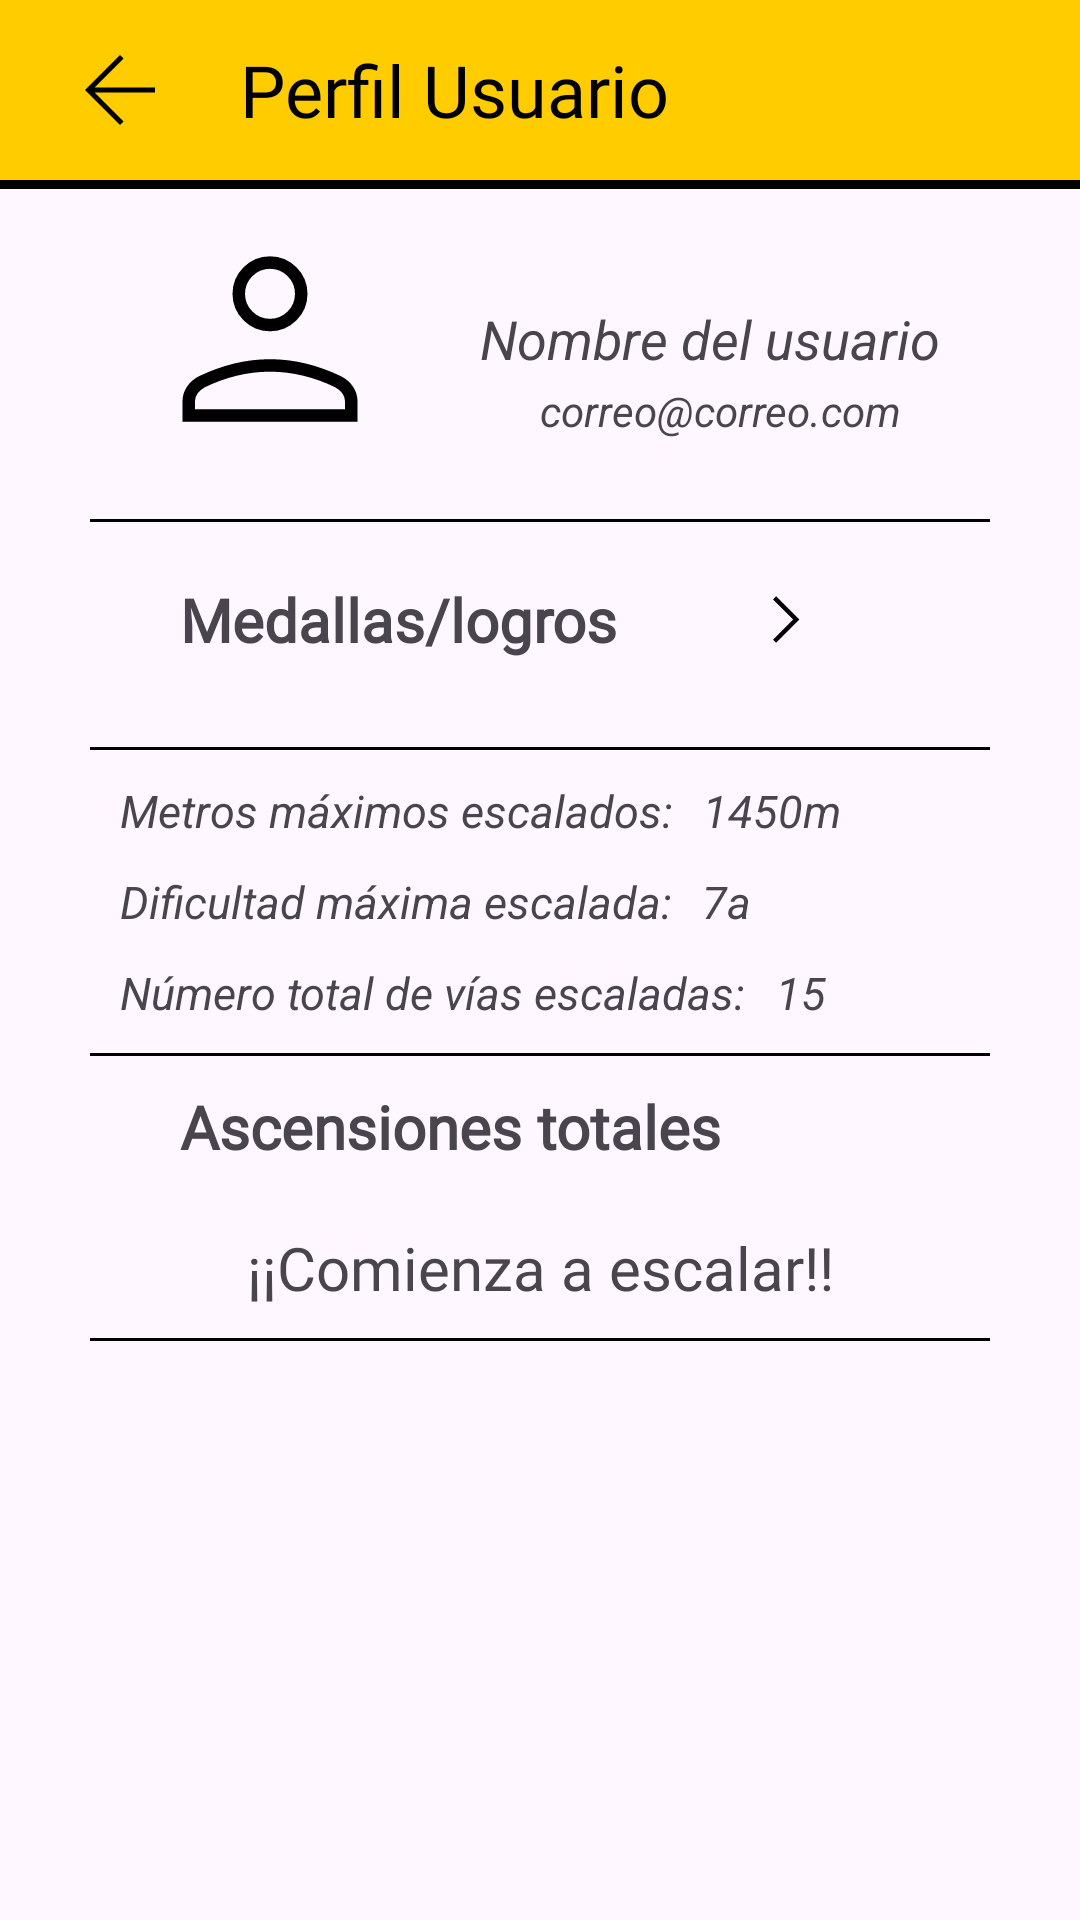

Icons on this 1080x1920 Android screen, each with its box as (x1, y1, x2, y2):
flecha atras: (85, 55, 155, 125)
flecha derecha: (773, 596, 800, 643)
